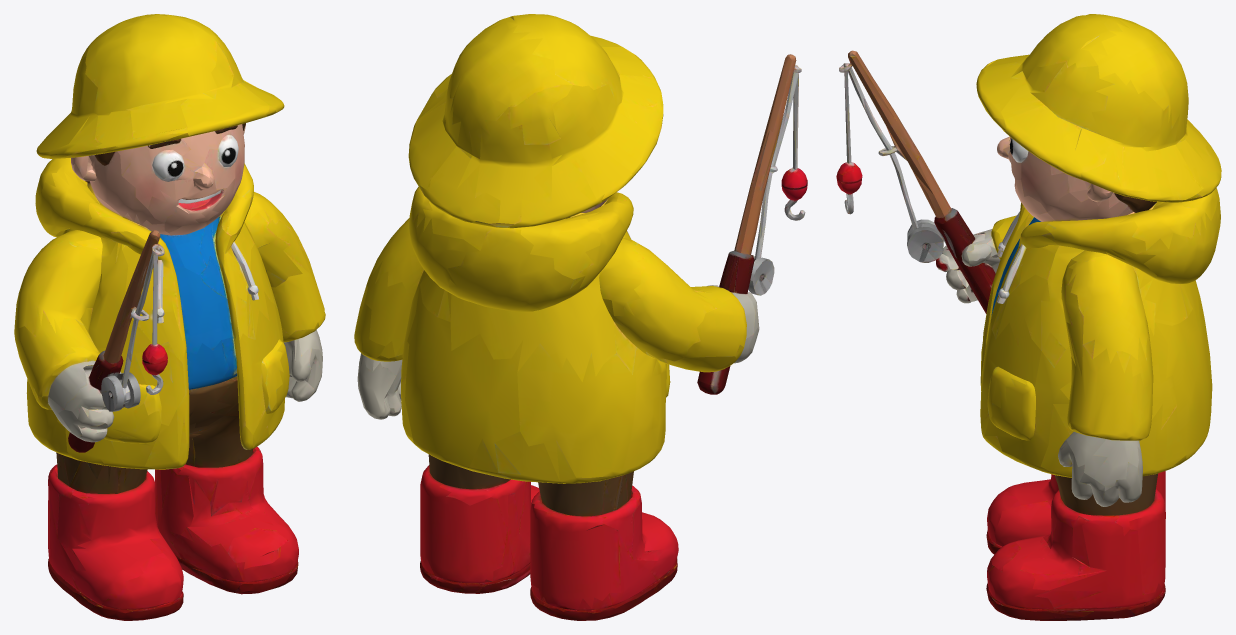
File: visser.glb
3 views of the same model, side by side, from view 1: azimuth 30°, elevation 25°; view 2: azimuth 150°, elevation 25°; view 3: azimuth 270°, elevation 25° (orthographic). The views are drawn at different scales.
Visible parts, largest first — view 1: Mesh_0; view 2: Mesh_0; view 3: Mesh_0.
Part boxes in pixels (left/top/right/bottom): Mesh_0: left=14, top=14, right=325, bottom=620; Mesh_0: left=354, top=14, right=807, bottom=620; Mesh_0: left=836, top=14, right=1221, bottom=620.
Size of the model in its own units: 1.19 by 1.9 by 1.21.
1 material, 1 textured.
